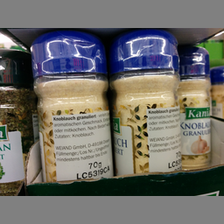spices: (30, 32, 114, 182), (112, 31, 179, 176), (178, 45, 213, 170)
